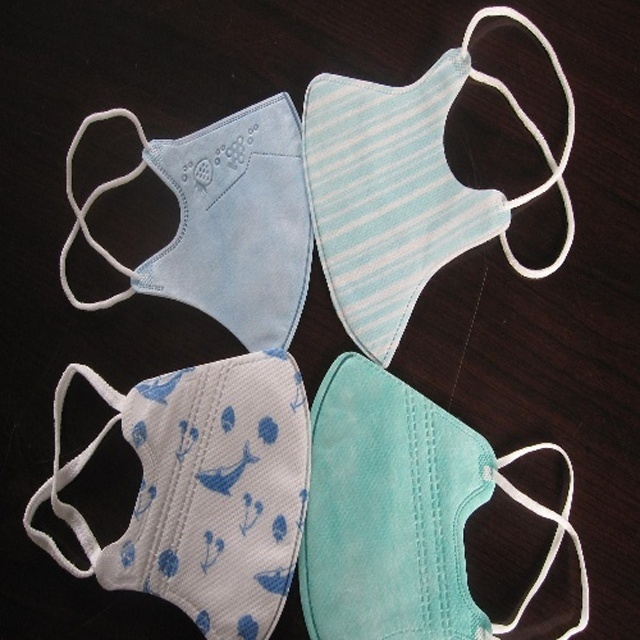mask: (302, 7, 583, 370), (298, 347, 597, 640), (24, 344, 312, 640), (52, 87, 315, 361)
